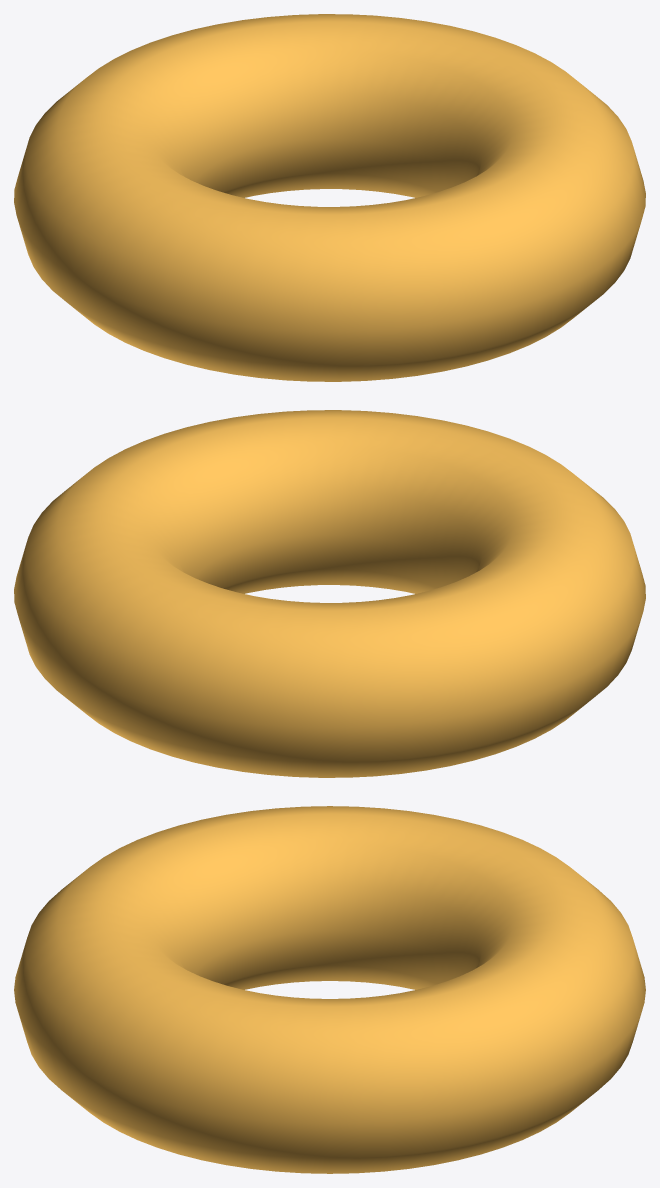
Rendered from torus-quality.glb.
3 renders of one model, top to bottom at view 1: azimuth 30°, elevation 25°; view 2: azimuth 150°, elevation 25°; view 3: azimuth 270°, elevation 25°, orthographic.
Parts seen in each view (by area): view 1: Torus; view 2: Torus; view 3: Torus.
Boxes of the visible parts, x1=… form: Torus: x1=14, y1=14, x2=645, y2=381; Torus: x1=14, y1=410, x2=645, y2=777; Torus: x1=14, y1=806, x2=645, y2=1173.
Bounding box in the file's own units: 1.8 × 0.5 × 1.8.
